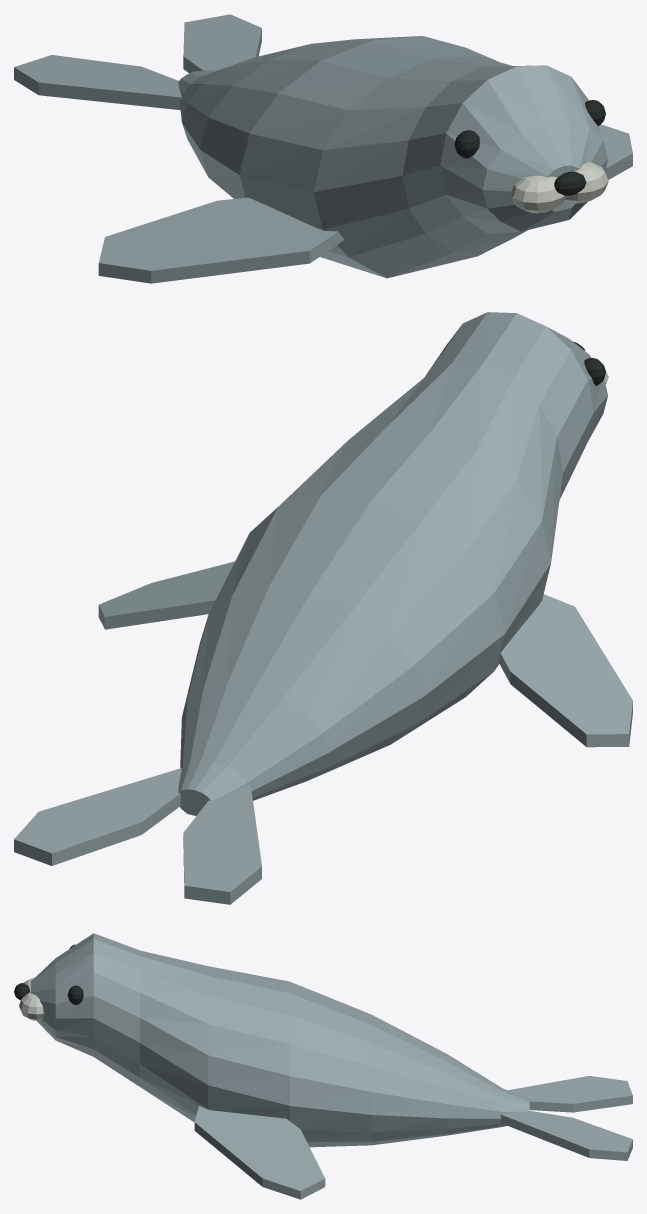
3 views of the same model, one above another, from view 1: azimuth 30°, elevation 25°; view 2: azimuth 150°, elevation 25°; view 3: azimuth 270°, elevation 25° (orthographic). The views are drawn at different scales.
Visible parts, largest first — view 1: WholeRaisedHeadNeckAndTaperedRestingTorso, LeftCompleteSweptFrontFlipper, LeftCompleteSplayedHindFlipper, RightCompleteSplayedHindFlipper, LeftBluntMuzzleLobe, RightCompleteSweptFrontFlipper, RightBluntMuzzleLobe, SmallBluntDarkNose, LeftSmallLateralEye; view 2: WholeRaisedHeadNeckAndTaperedRestingTorso, LeftCompleteSweptFrontFlipper, RightCompleteSplayedHindFlipper, LeftCompleteSplayedHindFlipper, RightCompleteSweptFrontFlipper; view 3: WholeRaisedHeadNeckAndTaperedRestingTorso, RightCompleteSweptFrontFlipper, RightCompleteSplayedHindFlipper, LeftCompleteSplayedHindFlipper, RightBluntMuzzleLobe.
Part boxes in pixels (left/top/right/bottom): WholeRaisedHeadNeckAndTaperedRestingTorso: left=178, top=36, right=607, bottom=278; LeftCompleteSweptFrontFlipper: left=98, top=197, right=344, bottom=283; LeftCompleteSplayedHindFlipper: left=14, top=55, right=181, bottom=110; RightCompleteSplayedHindFlipper: left=183, top=14, right=261, bottom=73; LeftBluntMuzzleLobe: left=510, top=175, right=565, bottom=213; RightCompleteSweptFrontFlipper: left=598, top=124, right=632, bottom=179; RightBluntMuzzleLobe: left=565, top=161, right=608, bottom=203; SmallBluntDarkNose: left=554, top=171, right=586, bottom=195; LeftSmallLateralEye: left=454, top=130, right=479, bottom=158; WholeRaisedHeadNeckAndTaperedRestingTorso: left=178, top=312, right=607, bottom=815; LeftCompleteSweptFrontFlipper: left=499, top=594, right=632, bottom=747; RightCompleteSplayedHindFlipper: left=14, top=768, right=181, bottom=865; LeftCompleteSplayedHindFlipper: left=183, top=785, right=261, bottom=904; RightCompleteSweptFrontFlipper: left=98, top=561, right=234, bottom=629; WholeRaisedHeadNeckAndTaperedRestingTorso: left=31, top=933, right=529, bottom=1147; RightCompleteSweptFrontFlipper: left=194, top=1106, right=325, bottom=1199; RightCompleteSplayedHindFlipper: left=500, top=1111, right=632, bottom=1160; LeftCompleteSplayedHindFlipper: left=508, top=1076, right=632, bottom=1112; RightBluntMuzzleLobe: left=19, top=992, right=43, bottom=1020.
Size of the model in its own units: 1.52 by 0.78 by 2.27.
